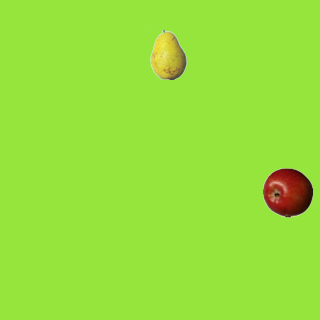Apple Braeburn: (262, 167, 312, 217)
Pear Monster: (143, 29, 193, 79)
